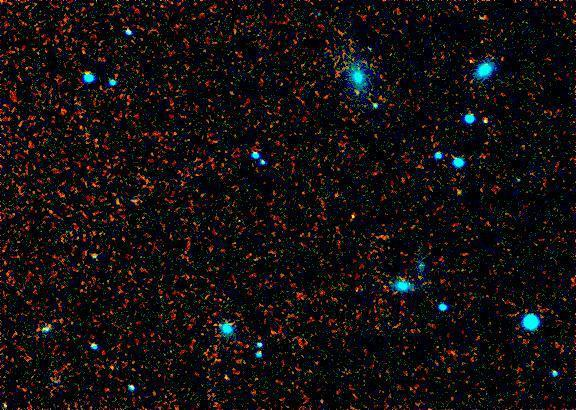star: (341, 78, 371, 108)
